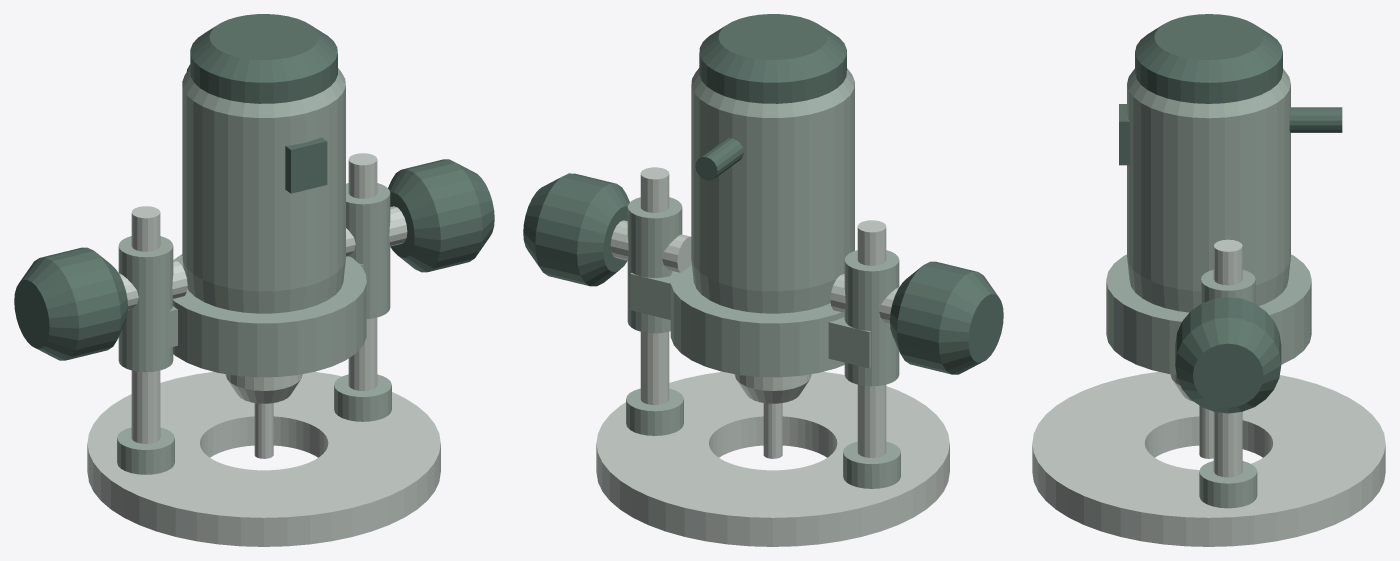
3 views of the same model, side by side, from view 1: azimuth 30°, elevation 25°; view 2: azimuth 150°, elevation 25°; view 3: azimuth 270°, elevation 25° (orthographic).
Visible parts, largest first — view 1: WholeThroughOpenAnnularGroundSole, WholeTallSteppedMotorBody, WholeCentralAnnularMotorCarriage, WholeMotorTopCap, WholeRoundedTransverseGrip_-1, WholeRoundedTransverseGrip_1, WholeUpperGuideSleeve_-1, WholeUpperGuideSleeve_1, WholeTallFixedGuidePost_-1, WholeTallFixedGuidePost_1, WholeGuideFootSocket_-1, WholeGuideFootSocket_1 (+5 smaller); view 2: WholeThroughOpenAnnularGroundSole, WholeTallSteppedMotorBody, WholeCentralAnnularMotorCarriage, WholeMotorTopCap, WholeRoundedTransverseGrip_-1, WholeRoundedTransverseGrip_1, WholeUpperGuideSleeve_-1, WholeUpperGuideSleeve_1, WholeTallFixedGuidePost_-1, WholeTallFixedGuidePost_1, WholeGuideFootSocket_-1, WholeGuideFootSocket_1 (+7 smaller); view 3: WholeThroughOpenAnnularGroundSole, WholeTallSteppedMotorBody, WholeMotorTopCap, WholeRoundedTransverseGrip_1, WholeCentralAnnularMotorCarriage, WholeTallFixedGuidePost_1, WholeGuideFootSocket_1, WholeShortRearCableEntry, WholeUpperGuideSleeve_1, WholeBluntFixedCentralSpindle, WholeBlankFrontSwitch.
Part boxes in pixels (bbox=[...]): WholeThroughOpenAnnularGroundSole: bbox=[87, 371, 440, 546]; WholeTallSteppedMotorBody: bbox=[182, 68, 345, 313]; WholeCentralAnnularMotorCarriage: bbox=[173, 254, 366, 377]; WholeMotorTopCap: bbox=[190, 14, 337, 103]; WholeRoundedTransverseGrip_-1: bbox=[14, 247, 127, 360]; WholeRoundedTransverseGrip_1: bbox=[388, 159, 494, 272]; WholeUpperGuideSleeve_-1: bbox=[118, 236, 173, 372]; WholeUpperGuideSleeve_1: bbox=[346, 183, 390, 318]; WholeTallFixedGuidePost_-1: bbox=[131, 206, 160, 443]; WholeTallFixedGuidePost_1: bbox=[348, 153, 377, 390]; WholeGuideFootSocket_-1: bbox=[117, 427, 174, 474]; WholeGuideFootSocket_1: bbox=[334, 374, 391, 421]; WholeThroughOpenAnnularGroundSole: bbox=[596, 371, 949, 546]; WholeTallSteppedMotorBody: bbox=[691, 68, 854, 313]; WholeCentralAnnularMotorCarriage: bbox=[670, 265, 844, 377]; WholeMotorTopCap: bbox=[699, 14, 846, 103]; WholeRoundedTransverseGrip_-1: bbox=[890, 261, 1003, 374]; WholeRoundedTransverseGrip_1: bbox=[523, 173, 629, 286]; WholeUpperGuideSleeve_-1: bbox=[844, 250, 899, 386]; WholeUpperGuideSleeve_1: bbox=[627, 197, 682, 333]; WholeTallFixedGuidePost_-1: bbox=[857, 220, 886, 457]; WholeTallFixedGuidePost_1: bbox=[640, 167, 669, 404]; WholeGuideFootSocket_-1: bbox=[843, 441, 900, 488]; WholeGuideFootSocket_1: bbox=[626, 388, 683, 435]; WholeThroughOpenAnnularGroundSole: bbox=[1032, 371, 1385, 546]; WholeTallSteppedMotorBody: bbox=[1127, 68, 1290, 312]; WholeMotorTopCap: bbox=[1135, 14, 1282, 103]; WholeRoundedTransverseGrip_1: bbox=[1175, 297, 1281, 413]; WholeCentralAnnularMotorCarriage: bbox=[1106, 254, 1311, 374]; WholeTallFixedGuidePost_1: bbox=[1213, 239, 1242, 477]; WholeGuideFootSocket_1: bbox=[1199, 461, 1257, 508]; WholeShortRearCableEntry: bbox=[1289, 107, 1342, 132]; WholeUpperGuideSleeve_1: bbox=[1201, 269, 1255, 303]; WholeBluntFixedCentralSpindle: bbox=[1199, 405, 1213, 458]; WholeBlankFrontSwitch: bbox=[1119, 104, 1129, 165].
Size of the model in its own units: 0.32 by 0.299 by 0.22.
